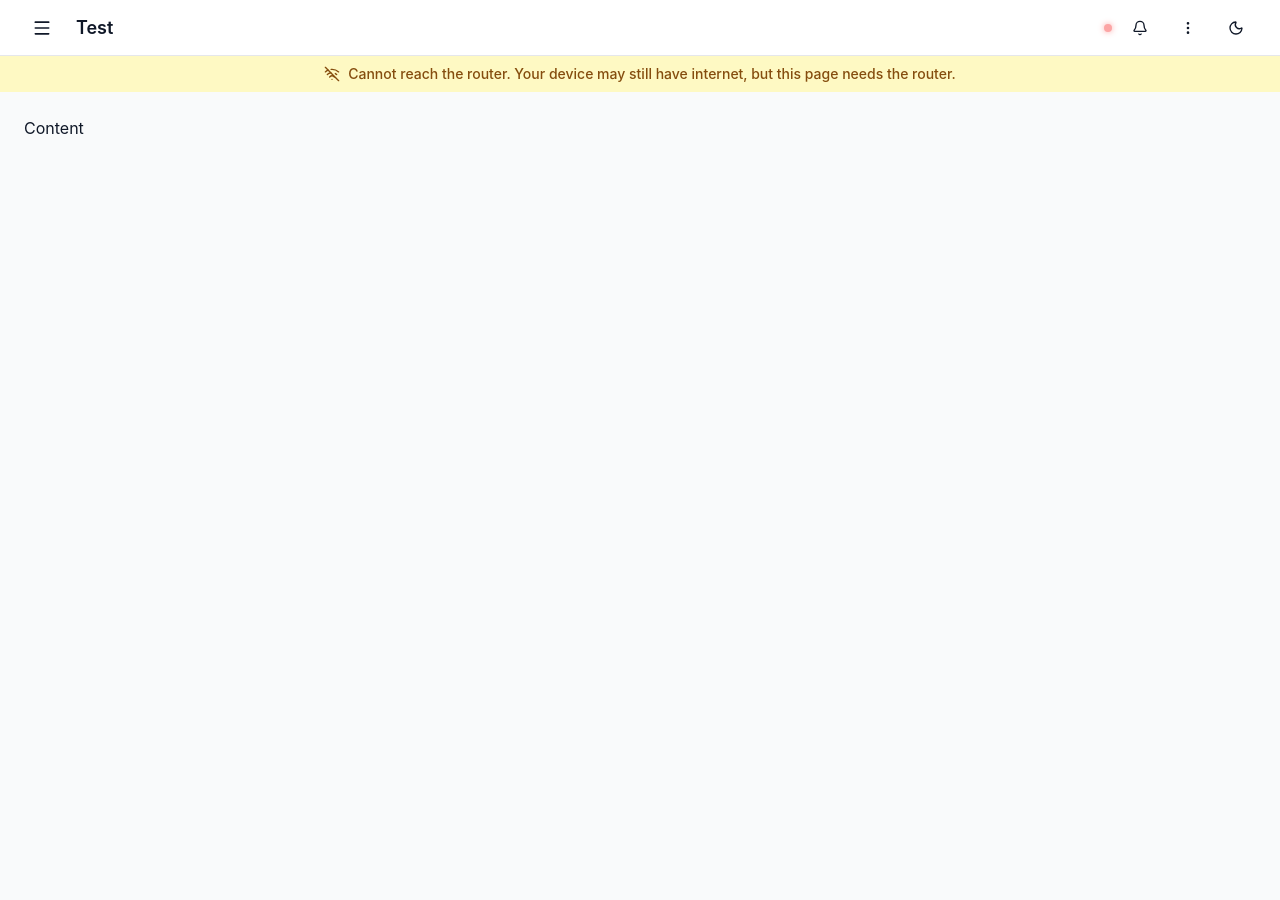
Test case: Mobile Sidebar › opens drawer when hamburger is clicked
Click the button named "Open menu" at (42, 28), box [20, 12, 64, 44]
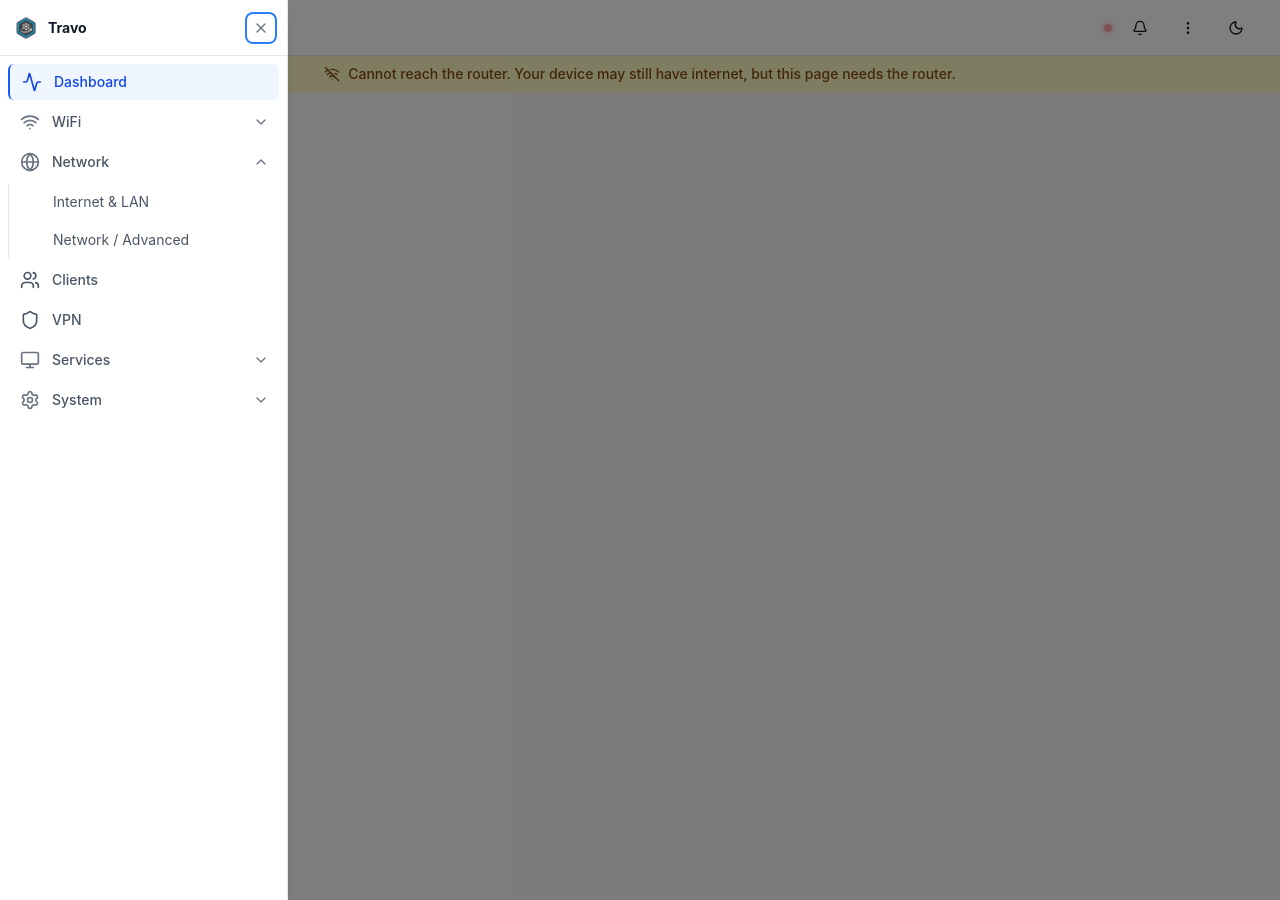
Expected: the dialog is shown, [0, 0, 288, 899]
Expected: the text "Dashboard" is shown, [54, 72, 127, 92]
